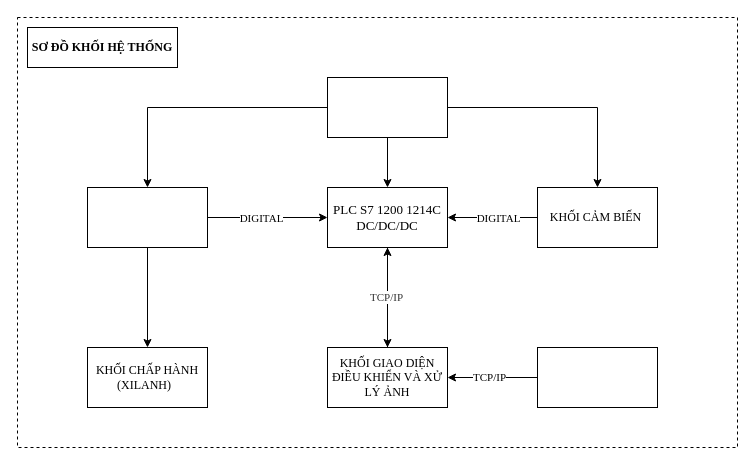
This 755x465 diagram has some shape labels left out. The shapes that lost their labels are listed below. From the top down, each one's centre as x and y in pixels, then its label:
[387,107]: KHỐI NGUỒN 24V
[147,217]: KHỐI CÔNG SUẤT (RELAY)
[597,377]: KHỐI CAMERA (MINDVISION)
